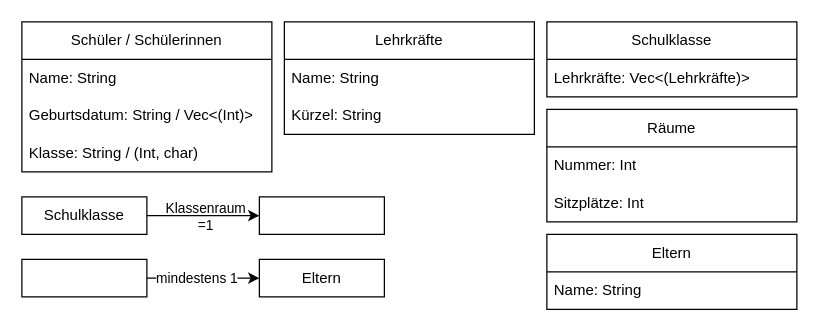
Image size: 819x331. Some labels were removed from this diagram. The centre of each missing label's shape, as x and y in pixels:
"Raum" belongs at (x=321, y=215).
"Schüler" belongs at (x=84, y=277).
